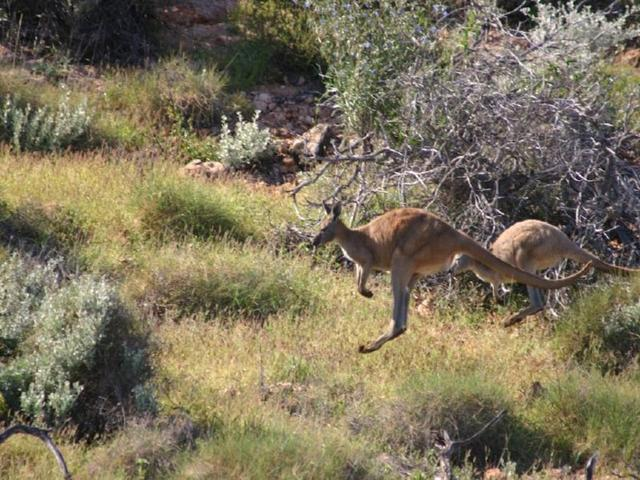kangaroo: (298, 183, 526, 371)
